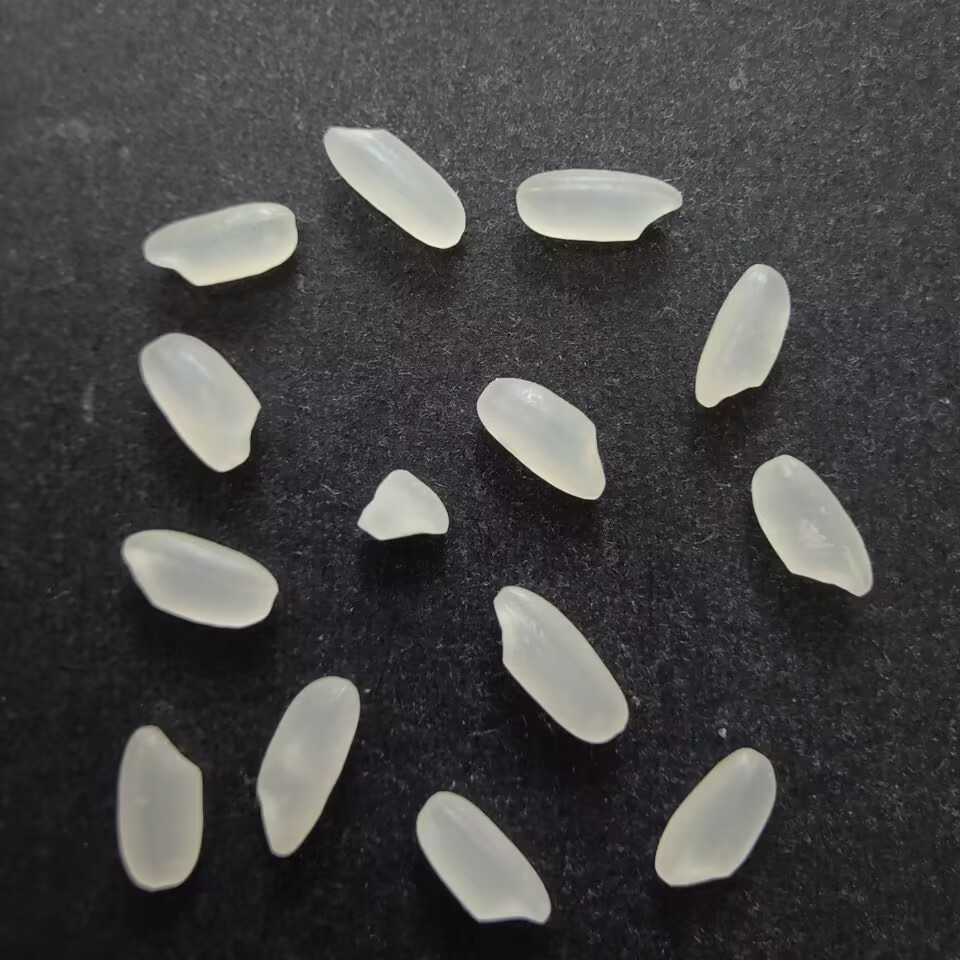broken: (354, 465, 451, 544)
rice: (486, 583, 636, 746), (252, 670, 365, 862), (412, 788, 557, 928), (646, 743, 780, 893), (747, 452, 879, 604), (318, 123, 470, 253), (132, 329, 267, 474), (114, 525, 285, 635), (472, 375, 610, 505), (113, 724, 208, 894), (689, 261, 794, 413), (136, 198, 300, 292), (509, 166, 687, 246)
